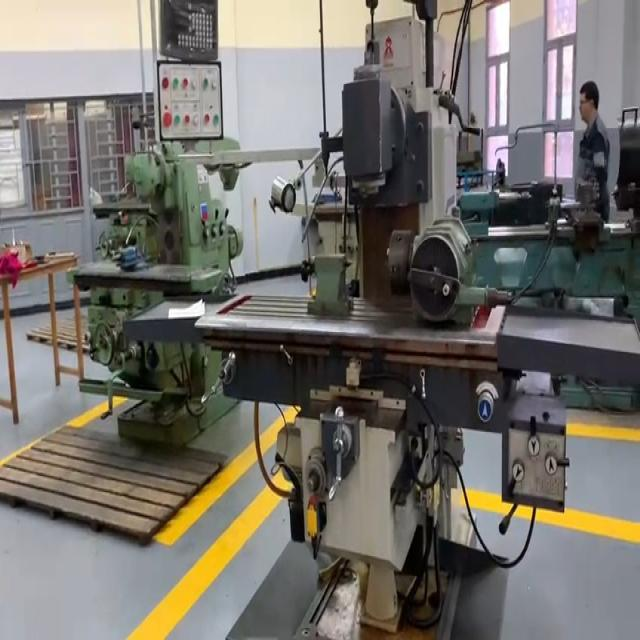fraiseuse: (128, 0, 640, 640)
